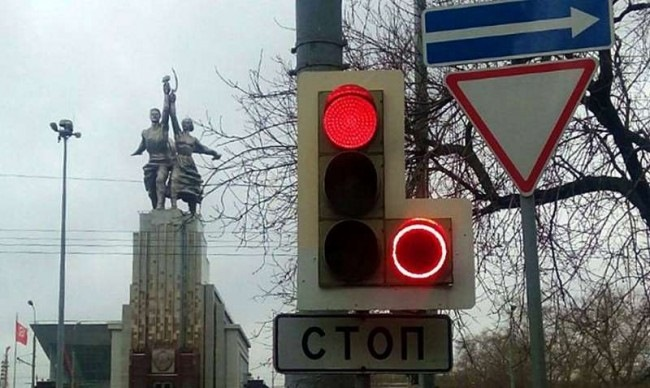tl: (297, 67, 471, 311)
